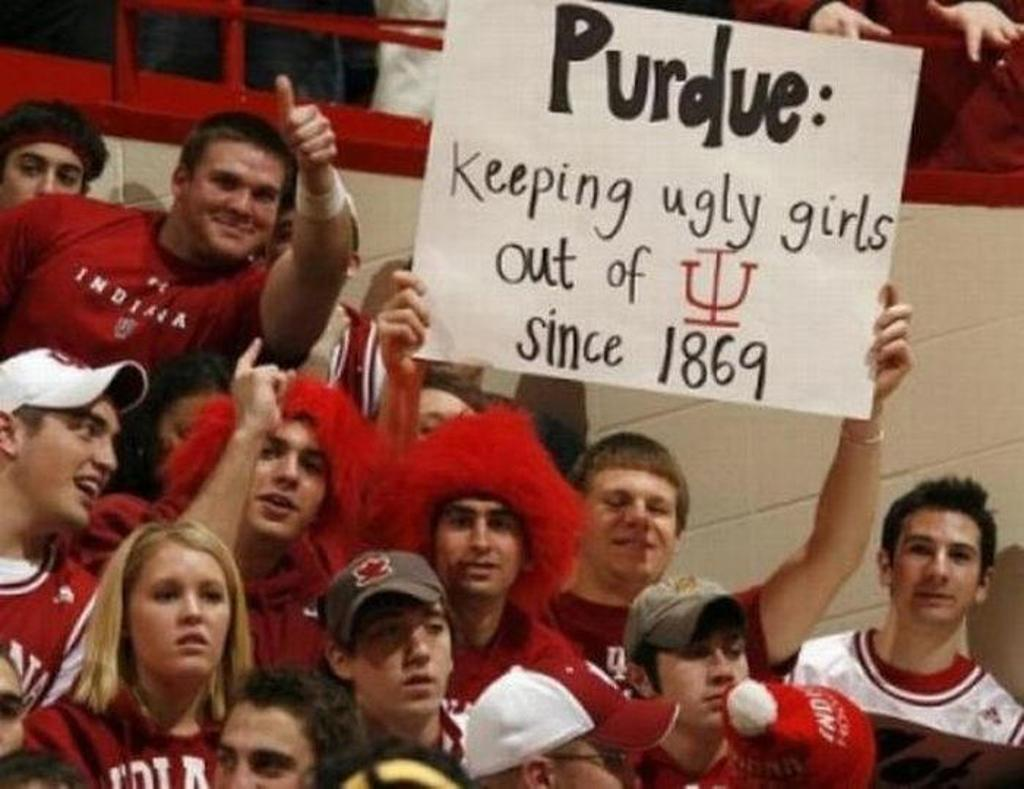face: (190, 128, 286, 256), (134, 562, 236, 672), (34, 398, 120, 528), (654, 618, 750, 730), (356, 602, 450, 710), (584, 464, 674, 576), (244, 426, 322, 542), (442, 492, 516, 594), (898, 510, 972, 612), (216, 710, 310, 789), (0, 142, 82, 230)
